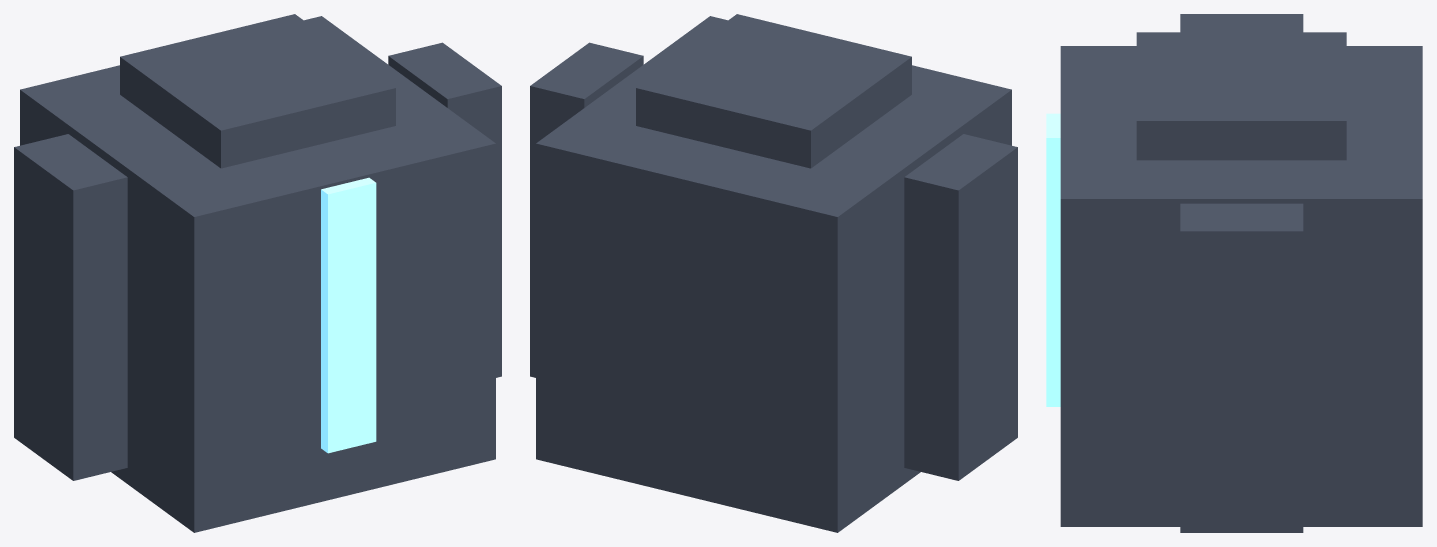
File: miranda-chapel-monolith-a.collider.glb
3 renders of one model, left to right at view 1: azimuth 30°, elevation 25°; view 2: azimuth 150°, elevation 25°; view 3: azimuth 270°, elevation 25°, orthographic. The views are drawn at different scales.
Visible parts, largest first — view 1: wasteland-monolith-body, wasteland-monolith-emissive; view 2: wasteland-monolith-body; view 3: wasteland-monolith-body, wasteland-monolith-emissive.
Part boxes in pixels (x1,y1,x2,y2): wasteland-monolith-body: (14,14,501,532); wasteland-monolith-emissive: (321,177,376,453); wasteland-monolith-body: (530,14,1017,532); wasteland-monolith-body: (1060,14,1422,532); wasteland-monolith-emissive: (1046,113,1060,406).
Size of the model in its own units: 1.42 by 1.14 by 1.04.
